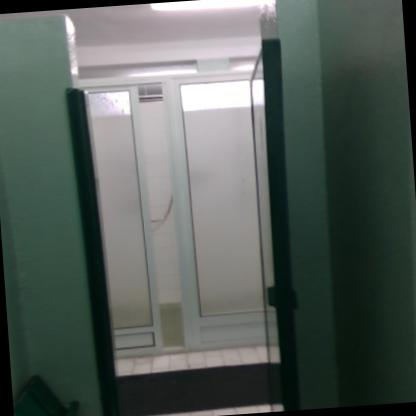closed: (160, 66, 306, 366)
open: (50, 31, 335, 415)
